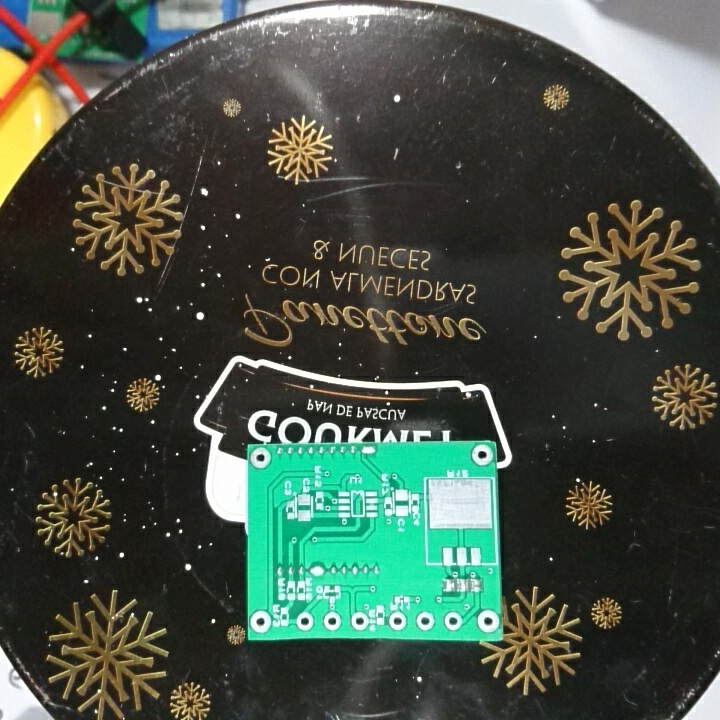F: (475, 606, 501, 635), (249, 607, 274, 637), (469, 443, 493, 469), (250, 447, 273, 472), (385, 609, 410, 632), (441, 611, 464, 635), (294, 609, 316, 632), (349, 609, 370, 633), (413, 609, 435, 630), (321, 610, 342, 632)
P: (359, 443, 381, 458), (308, 563, 327, 580)
